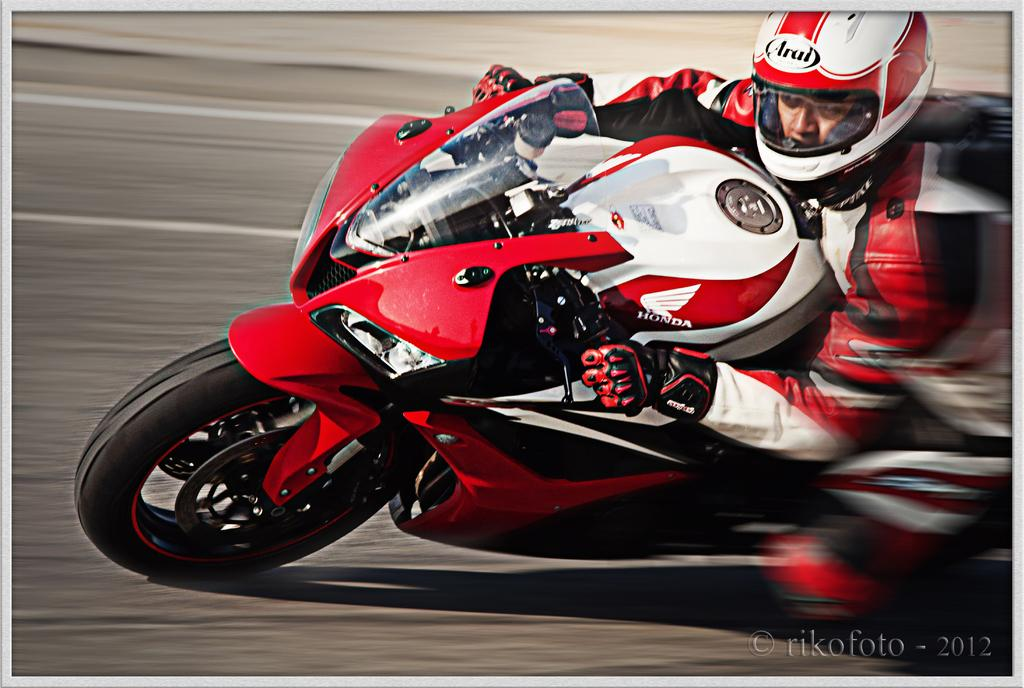helmet: (751, 11, 936, 204)
